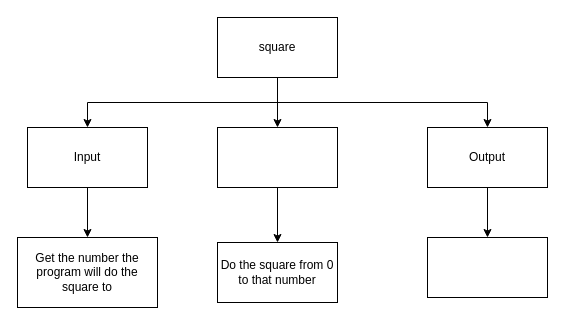
The diagram is 565 pixels wide and 325 high, and some of its shapes have lost their labels. Here are the shapes that lost their labels. From the top down, the centre of each, then its label:
the point at 277,157: Process
the point at 487,267: Show the all the result
